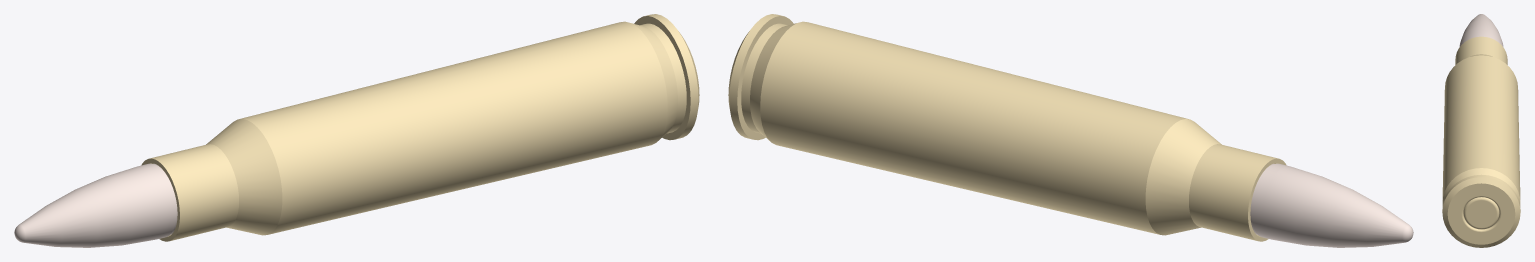
The model's file is ar15_bullet.fbx.
3 views of the same model, side by side, from view 1: azimuth 30°, elevation 25°; view 2: azimuth 150°, elevation 25°; view 3: azimuth 270°, elevation 25° (orthographic). The views are drawn at different scales.
Visible parts, largest first — view 1: Case.step; view 2: Case.step; view 3: Case.step.
Part boxes in pixels (<box>): Case.step: <box>14,14,699,247</box>; Case.step: <box>728,14,1413,247</box>; Case.step: <box>1442,14,1520,247</box>.
Size of the model in its own units: 5.71 by 0.96 by 0.96.
